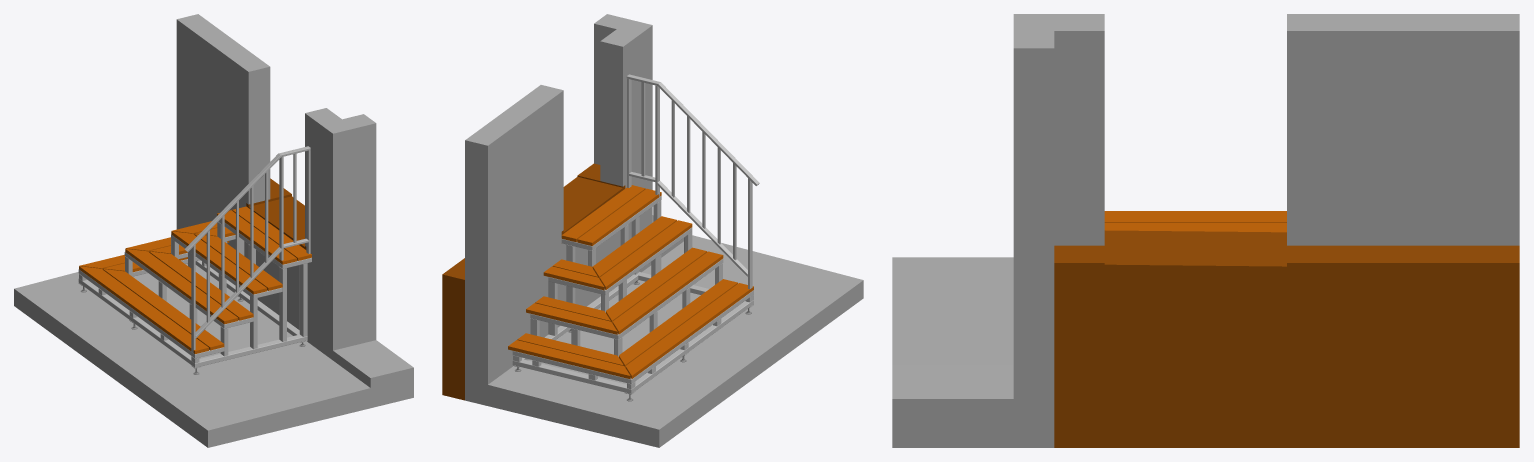
Rendered from Крыльцо в сборе.obj.
3 views of the same model, side by side, from view 1: azimuth 30°, elevation 25°; view 2: azimuth 150°, elevation 25°; view 3: azimuth 270°, elevation 25° (orthographic). The views are drawn at different scales.
Bounding box in the file's own units: 1.9 × 2.18 × 3.1.
